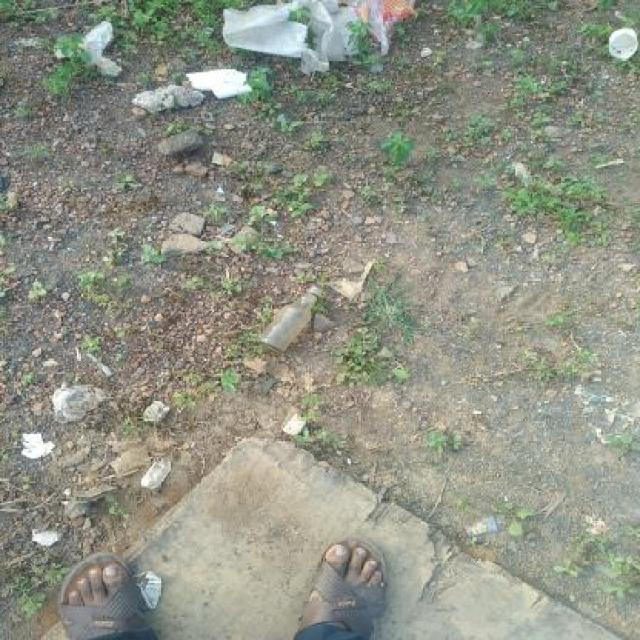garbage: (222, 0, 479, 68), (160, 40, 292, 126), (248, 278, 354, 380), (14, 431, 117, 498), (140, 388, 238, 449), (101, 445, 184, 504), (242, 403, 360, 440), (603, 20, 640, 87)
